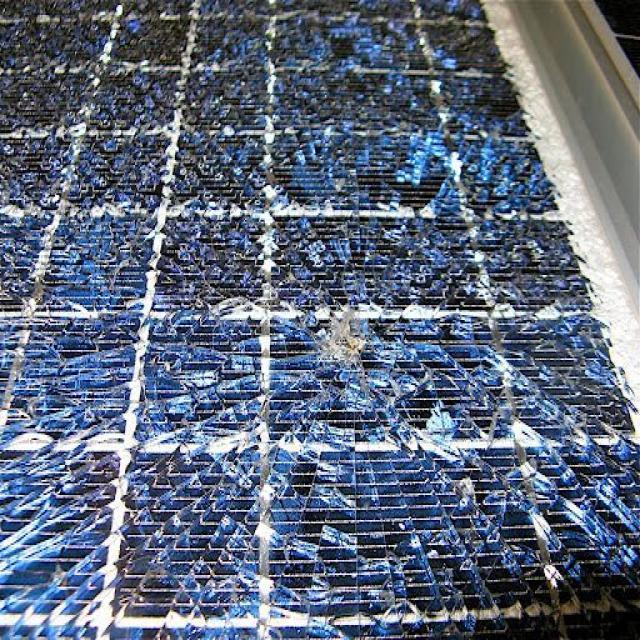Physical-damage: (0, 12, 640, 632)
